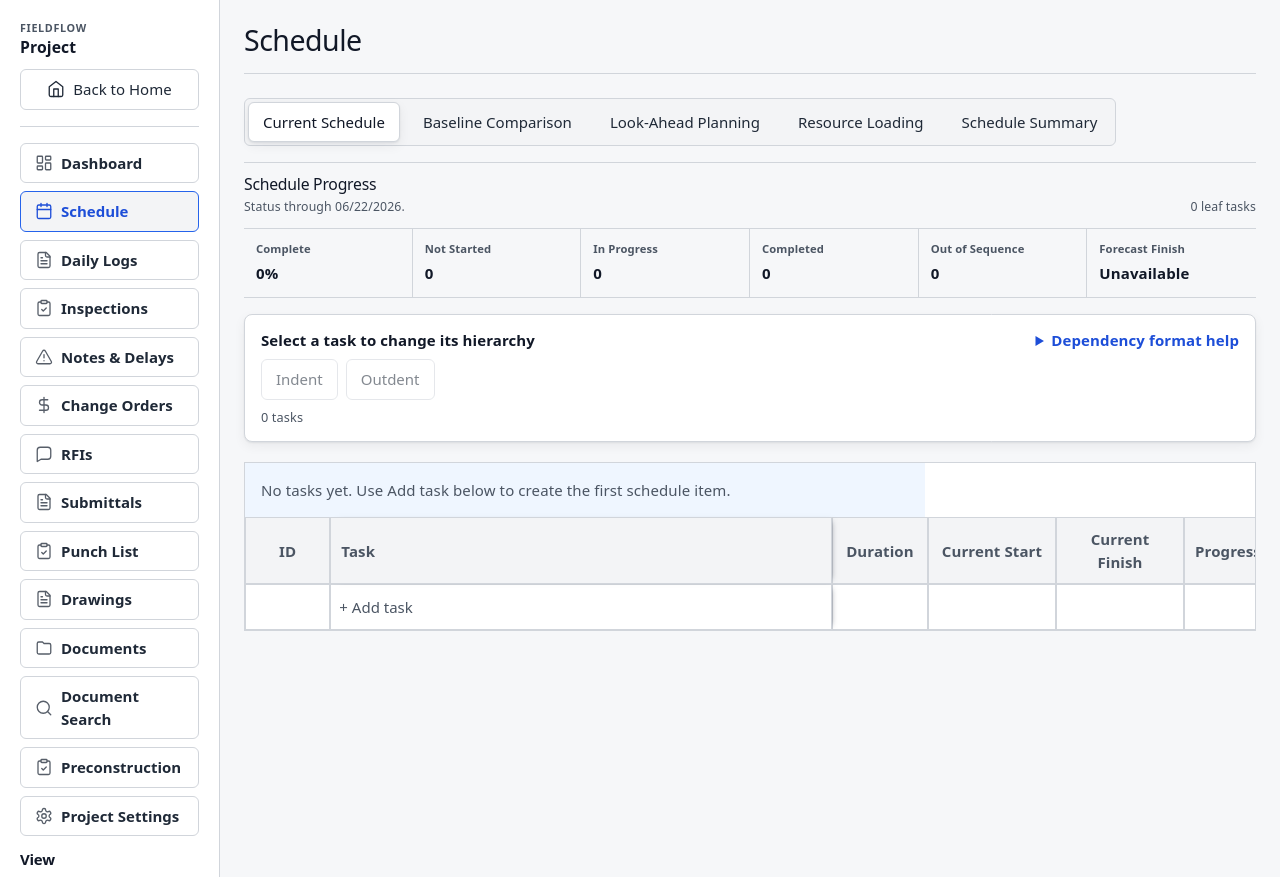
Test: SchedulerPage › opens resource loading as the fourth schedule mode
The image size is (1280, 877).
Step 1. Click the button "Resource Loading" → (861, 122), box [783, 102, 939, 142]
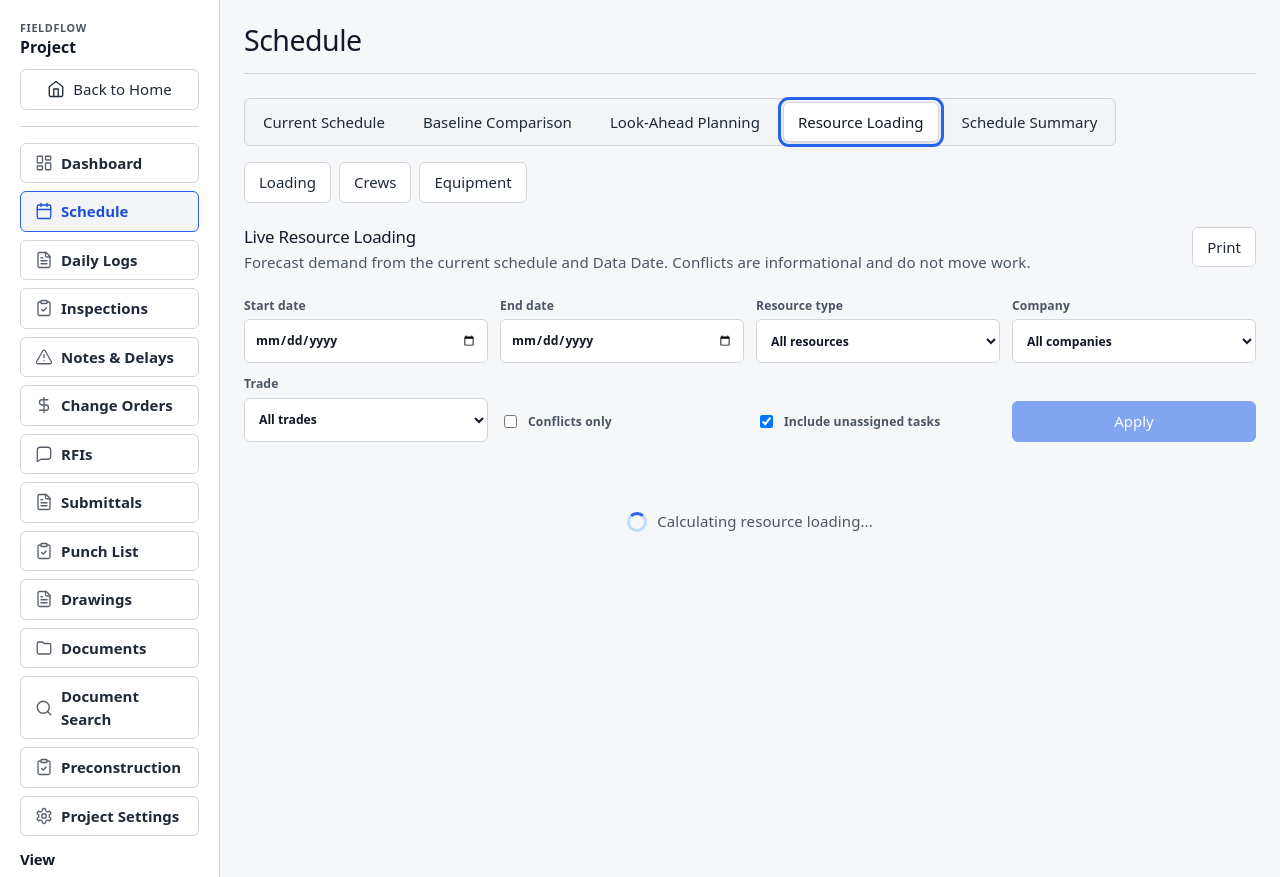
Check: the element "Resource Loading" is shown, box [244, 162, 1256, 578]
Check: the heading "Live Resource Loading" is shown, box [244, 225, 416, 248]
